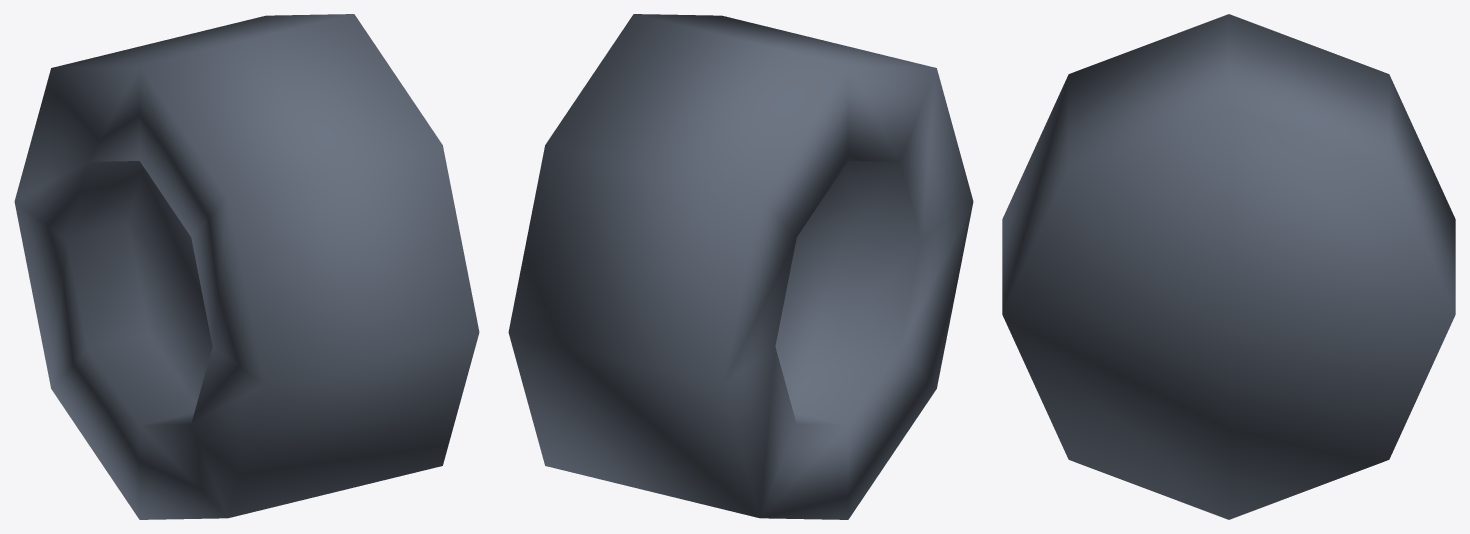
File: tubeEntry.fbx
3 renders of one model, left to right at view 1: azimuth 30°, elevation 25°; view 2: azimuth 150°, elevation 25°; view 3: azimuth 270°, elevation 25°, orthographic. The views are drawn at different scales.
Parts seen in each view (by area): view 1: tubeEntry; view 2: tubeEntry; view 3: tubeEntry.
Part boxes in pixels (bbox=[...]): tubeEntry: bbox=[14, 14, 479, 519]; tubeEntry: bbox=[508, 14, 973, 519]; tubeEntry: bbox=[1002, 14, 1455, 519].
Size of the model in its own units: 183 by 90.61 by 183.
